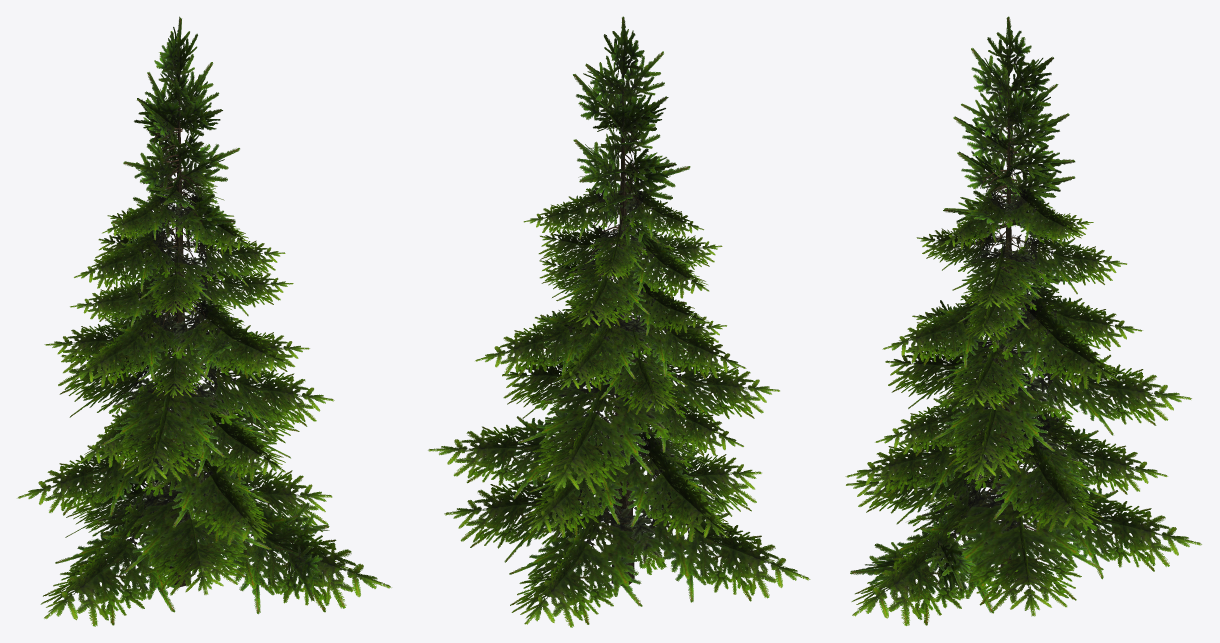
Rendered from fir-02.fbx.
3 renders of one model, left to right at view 1: azimuth 30°, elevation 25°; view 2: azimuth 150°, elevation 25°; view 3: azimuth 270°, elevation 25°, orthographic.
Visible parts, largest first — view 1: fir-02; view 2: fir-02; view 3: fir-02.
Part boxes in pixels (x1,y1,x2,y2): fir-02: (17,16,391,626); fir-02: (428,16,810,627); fir-02: (845,16,1201,625).
Bounding box in the file's own units: 680 × 1109 × 652.
